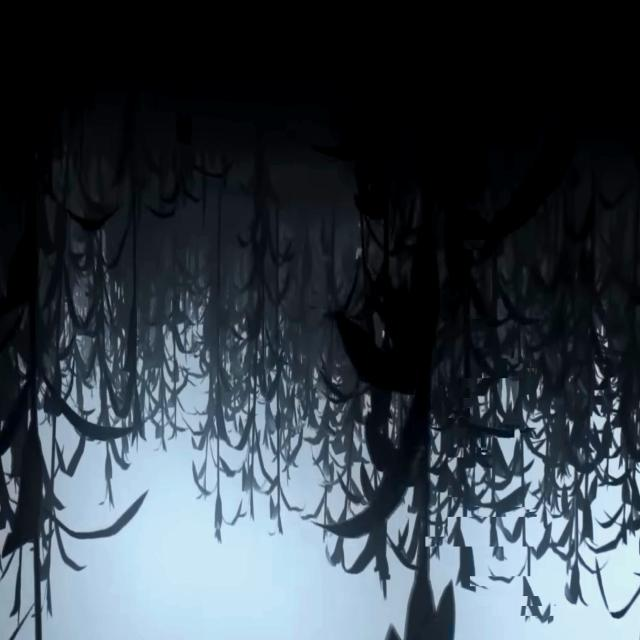boy: (356, 221, 368, 267)
